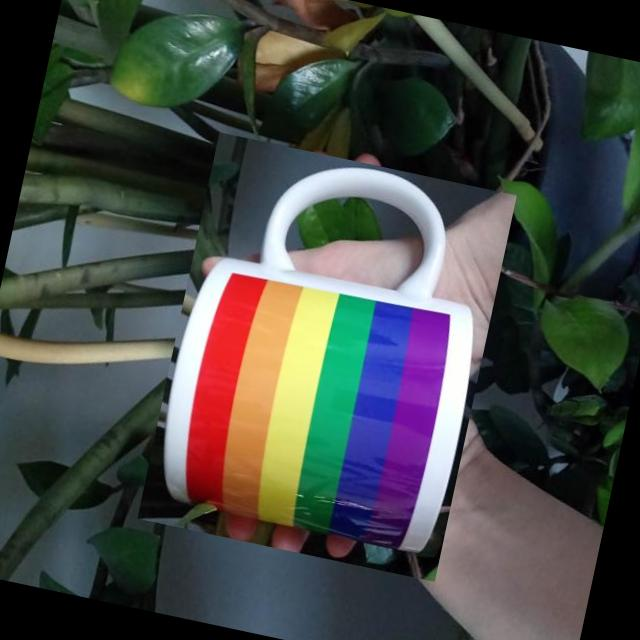Coffee Mug: (148, 134, 507, 556)
